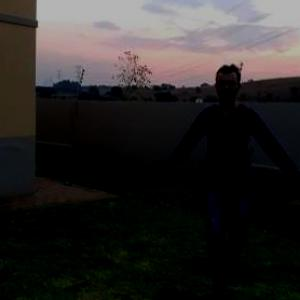land: (152, 53, 299, 299)
